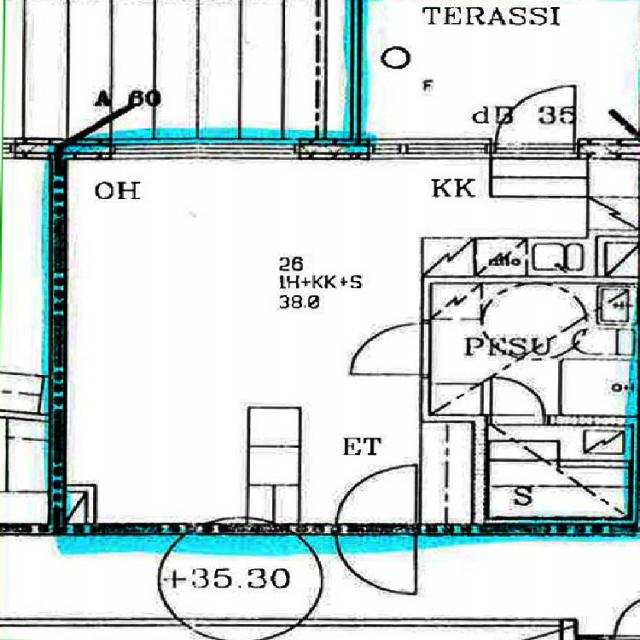door: (496, 80, 574, 159), (337, 524, 416, 594), (337, 466, 416, 534), (353, 323, 431, 374), (490, 374, 544, 424)
